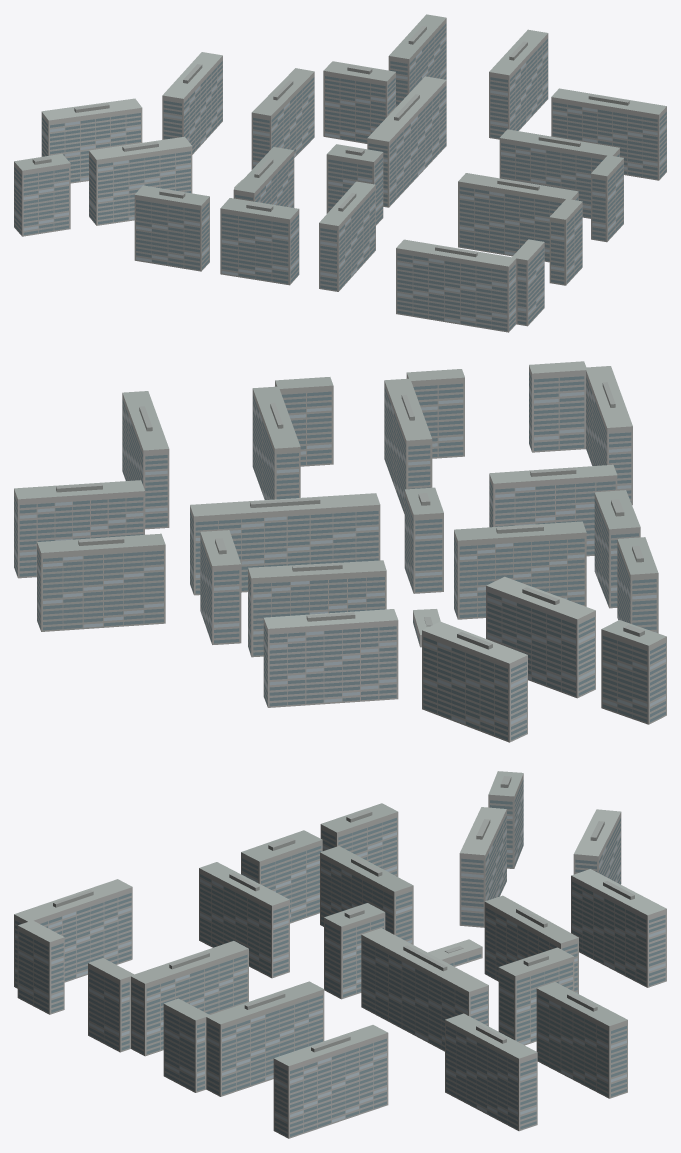
Rendered from apt-a13984814.glb.
3 renders of one model, top to bottom at view 1: azimuth 30°, elevation 25°; view 2: azimuth 150°, elevation 25°; view 3: azimuth 270°, elevation 25°, orthographic. The views are drawn at different scales.
Parts seen in each view (by area): view 1: apt-a13984814; view 2: apt-a13984814; view 3: apt-a13984814.
Part boxes in pixels (x1,y1,x2,y2): apt-a13984814: [14, 14, 666, 332]; apt-a13984814: [14, 361, 666, 742]; apt-a13984814: [14, 771, 666, 1138].
Bounding box in the file's own units: 341 × 41 × 319.
